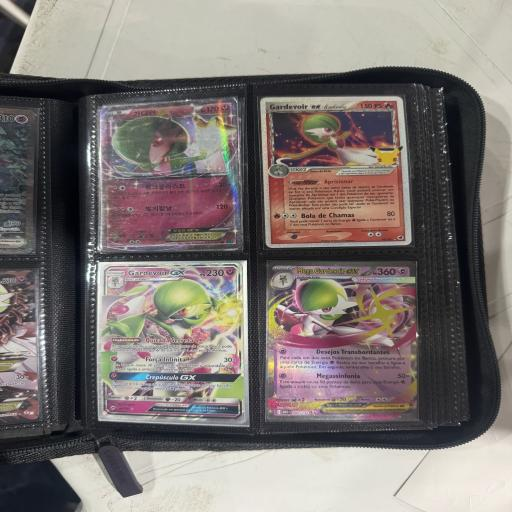card: (259, 92, 412, 251), (267, 261, 419, 420), (98, 263, 245, 423), (97, 96, 243, 255)
